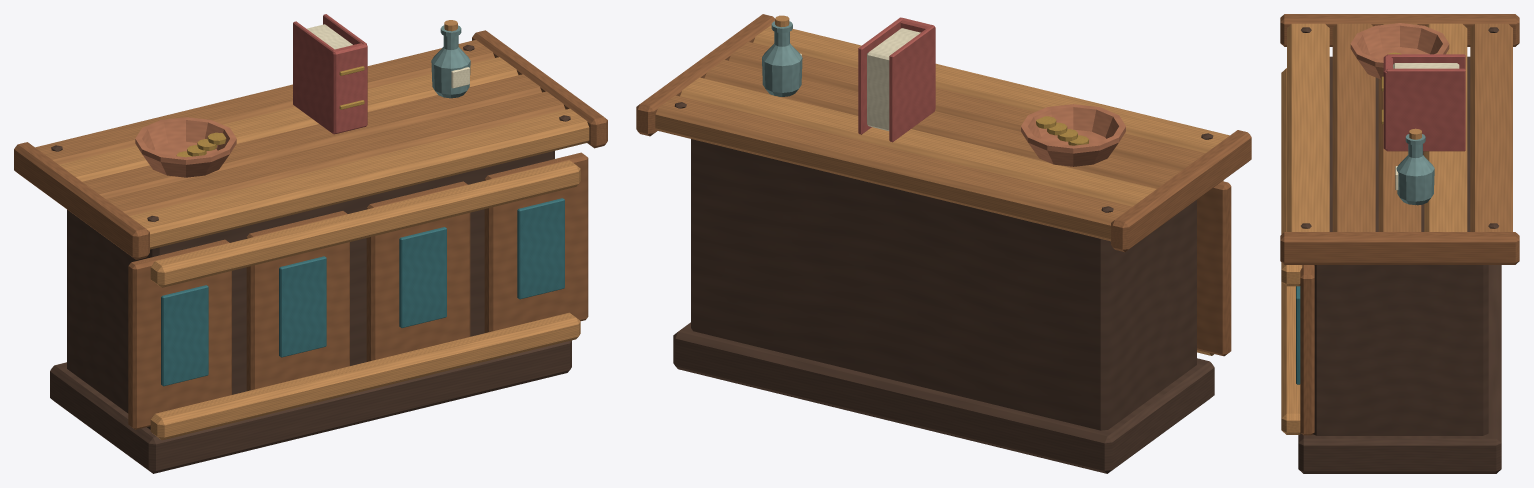
File: counter_shop.glb
3 renders of one model, left to right at view 1: azimuth 30°, elevation 25°; view 2: azimuth 150°, elevation 25°; view 3: azimuth 270°, elevation 25°, orthographic. The views are drawn at different scales.
Parts seen in each view (by area): view 1: counter_shop; view 2: counter_shop; view 3: counter_shop.
Boxes of the visible parts, left/top/right/bottom form: counter_shop: left=14, top=14, right=607, bottom=473; counter_shop: left=636, top=14, right=1251, bottom=473; counter_shop: left=1280, top=14, right=1519, bottom=473.
Size of the model in its own units: 2.06 by 1.39 by 0.92.
1 material, 1 textured.
